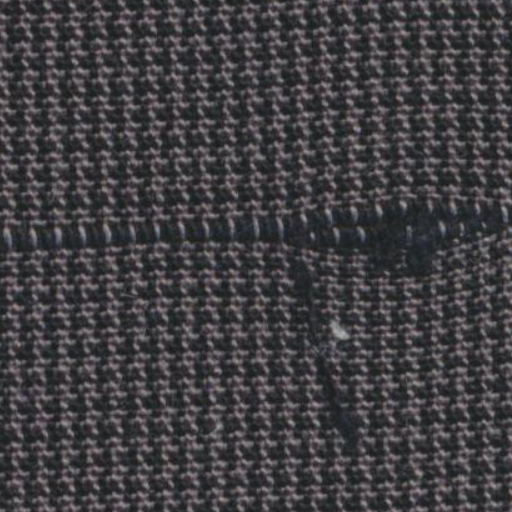DaiSha: (12, 194, 504, 271)
